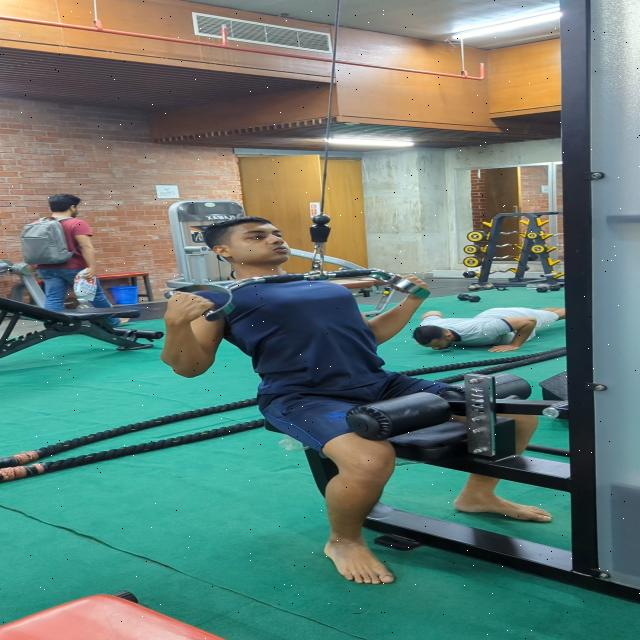Normal_LatPulldown: (148, 208, 572, 590)
